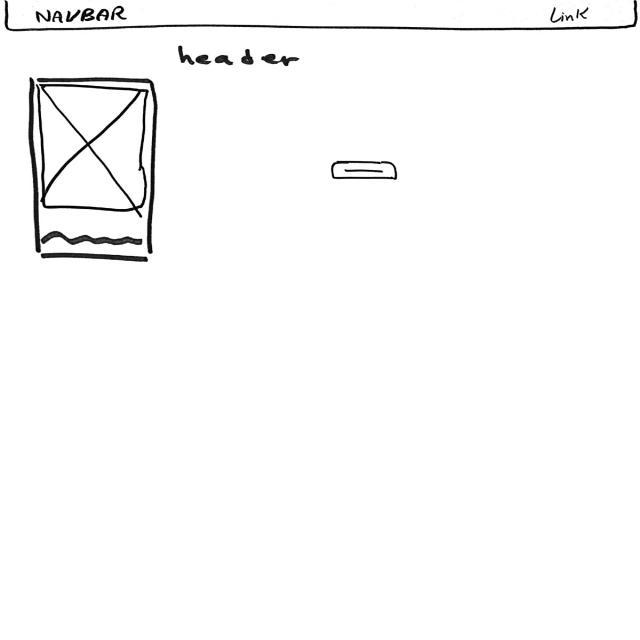container: (27, 76, 160, 262), (1, 0, 640, 32)
icon-button: (330, 160, 398, 182)
image: (36, 84, 149, 212)
label: (178, 42, 300, 68), (34, 6, 128, 24), (546, 6, 590, 22)
text: (42, 230, 144, 248)
